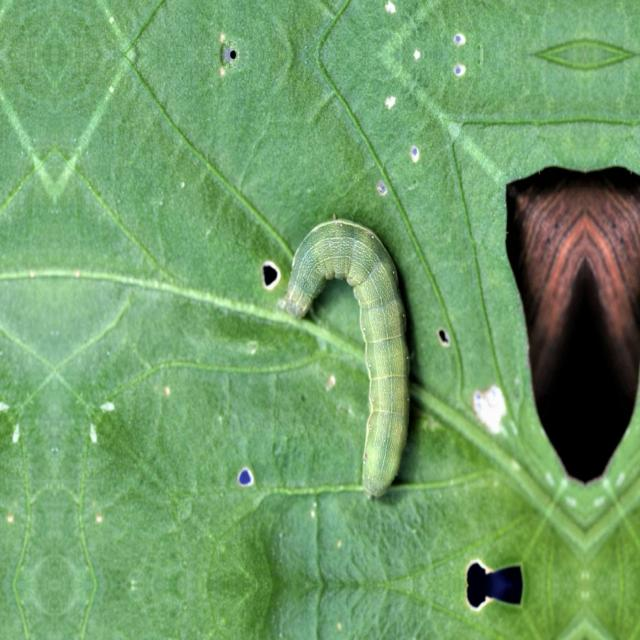armyworm: (277, 215, 411, 500)
